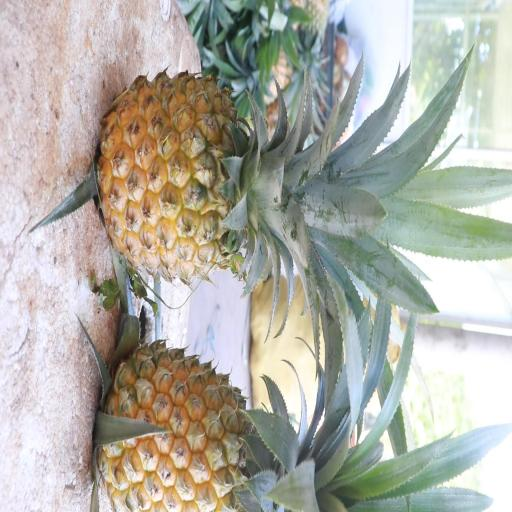Pineapple - v8 v1: (96, 60, 330, 287), (93, 335, 337, 512)
